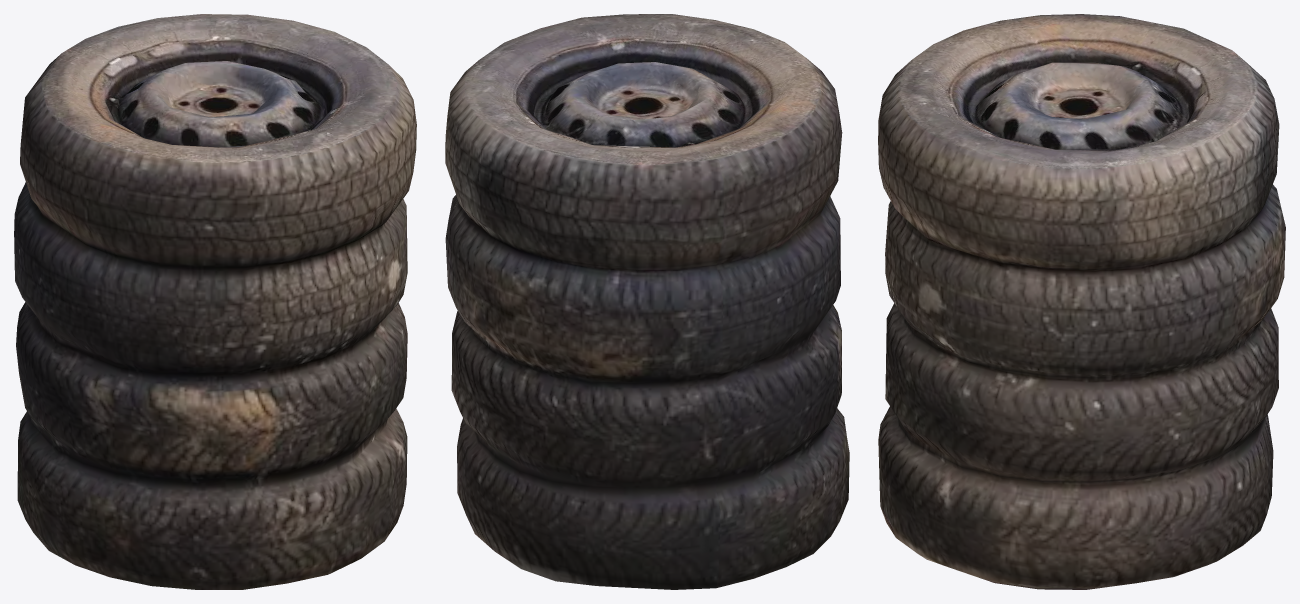
Rendered from tires.glb.
3 renders of one model, left to right at view 1: azimuth 30°, elevation 25°; view 2: azimuth 150°, elevation 25°; view 3: azimuth 270°, elevation 25°, orthographic.
Parts seen in each view (by area): view 1: Retopo_model to retopo_Material_0; view 2: Retopo_model to retopo_Material_0; view 3: Retopo_model to retopo_Material_0.
Part boxes in pixels (x1=…): Retopo_model to retopo_Material_0: x1=14, y1=14, x2=416, y2=589; Retopo_model to retopo_Material_0: x1=445, y1=14, x2=849, y2=589; Retopo_model to retopo_Material_0: x1=878, y1=14, x2=1285, y2=589.
Bounding box in the file's own units: 1.26 × 1.47 × 1.25.
1 material, 1 textured.
